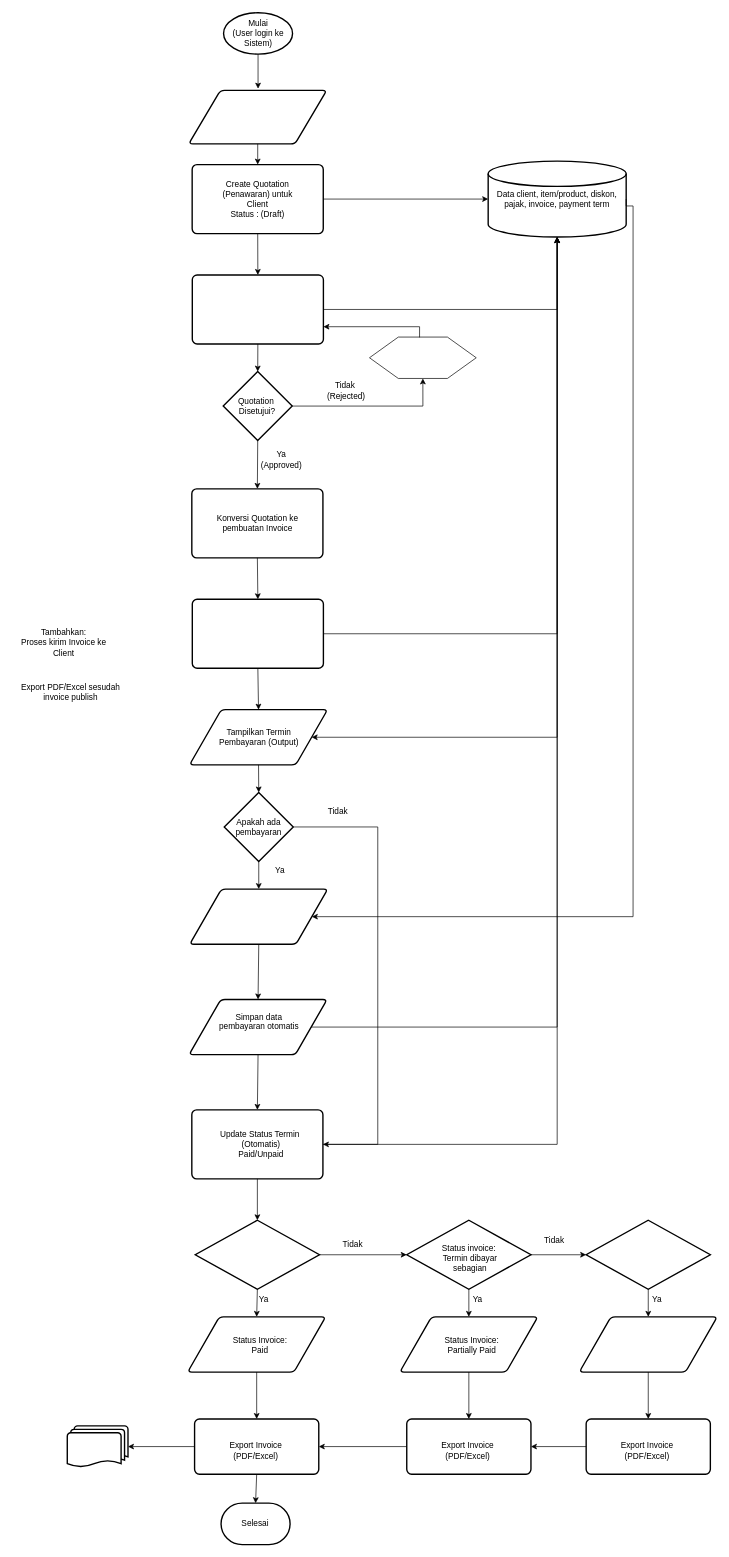
The diagram is 729 pixels wide and 1557 high, and some of its shapes have lost their labels. Here are the shapes that lost their labels. From the top down, the centre of each, then its label:
At pixel 257 116: "Input data client, item, diskon, dan pajak".
At pixel 257 309: "Kirim Quotation ke Client Status: Sent".
At pixel 422 357: "Quoation di revisi Status: Revised".
At pixel 257 633: "Publish Invoice Status (Issued)".
At pixel 258 916: "Terima Data Pembayaran".
At pixel 257 1254: "Status invoice: Termin dibayar semua".
At pixel 648 1254: "Status invoice: Termin jatuh tempo".
At pixel 648 1344: "Status Invoice: Overdue".
